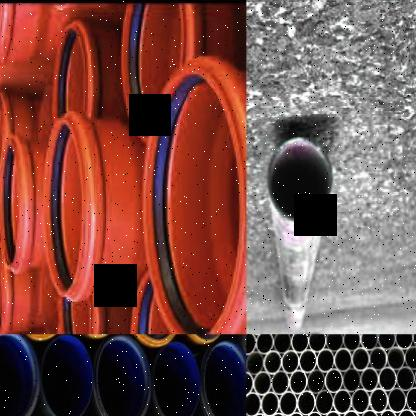pipe: (140, 55, 246, 334), (118, 2, 198, 146), (43, 109, 91, 301), (267, 136, 332, 224), (50, 18, 97, 123), (95, 334, 150, 416), (40, 334, 94, 416), (0, 135, 29, 276), (152, 342, 201, 416), (202, 339, 246, 416), (0, 334, 39, 416), (133, 259, 172, 334), (57, 295, 98, 334), (0, 1, 19, 68), (333, 389, 352, 415), (369, 388, 388, 414), (263, 350, 282, 376), (297, 389, 315, 416), (315, 389, 333, 416), (352, 388, 370, 415), (260, 392, 280, 416), (289, 370, 308, 395), (342, 368, 361, 393), (316, 349, 335, 374), (388, 388, 406, 414), (378, 366, 396, 392), (396, 366, 414, 392), (279, 391, 297, 416), (254, 371, 272, 396), (271, 370, 289, 395), (307, 369, 325, 394), (324, 368, 342, 393), (299, 349, 317, 374), (369, 347, 387, 372), (387, 346, 405, 371), (247, 350, 264, 376), (360, 368, 378, 392), (282, 350, 300, 374), (334, 348, 352, 372), (352, 348, 370, 372), (256, 334, 274, 354), (272, 334, 290, 354), (342, 334, 361, 352), (246, 392, 260, 416), (325, 334, 343, 352), (360, 334, 378, 352), (291, 334, 308, 353), (308, 334, 325, 352), (404, 346, 416, 370), (405, 387, 416, 413), (395, 334, 412, 350), (378, 334, 394, 350), (246, 335, 256, 356), (246, 372, 254, 396), (397, 409, 416, 416), (360, 409, 378, 416), (378, 409, 396, 416), (342, 410, 360, 416), (323, 411, 341, 416), (286, 412, 305, 416), (305, 412, 323, 416), (412, 334, 416, 350), (250, 413, 268, 416), (268, 413, 286, 416), (414, 366, 416, 392)
